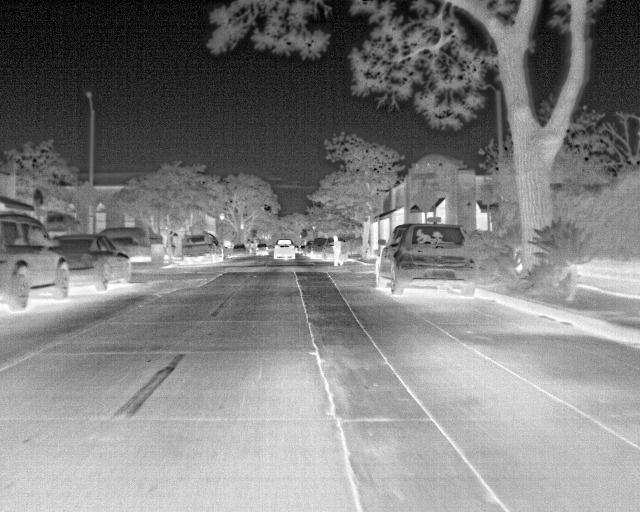bicycle: (372, 221, 482, 297), (1, 210, 72, 313), (53, 235, 132, 294), (182, 233, 224, 265), (98, 225, 144, 241), (273, 238, 300, 262), (307, 236, 325, 259), (232, 242, 252, 260), (319, 235, 334, 259), (253, 240, 272, 257)
empty: (332, 234, 344, 269)
